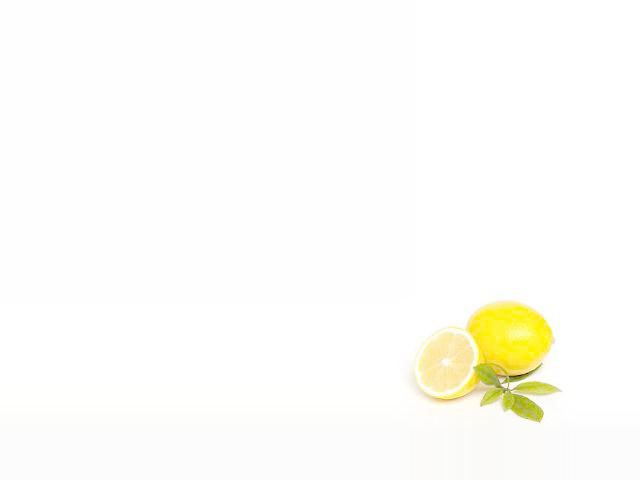lemon: (454, 296, 561, 383)
